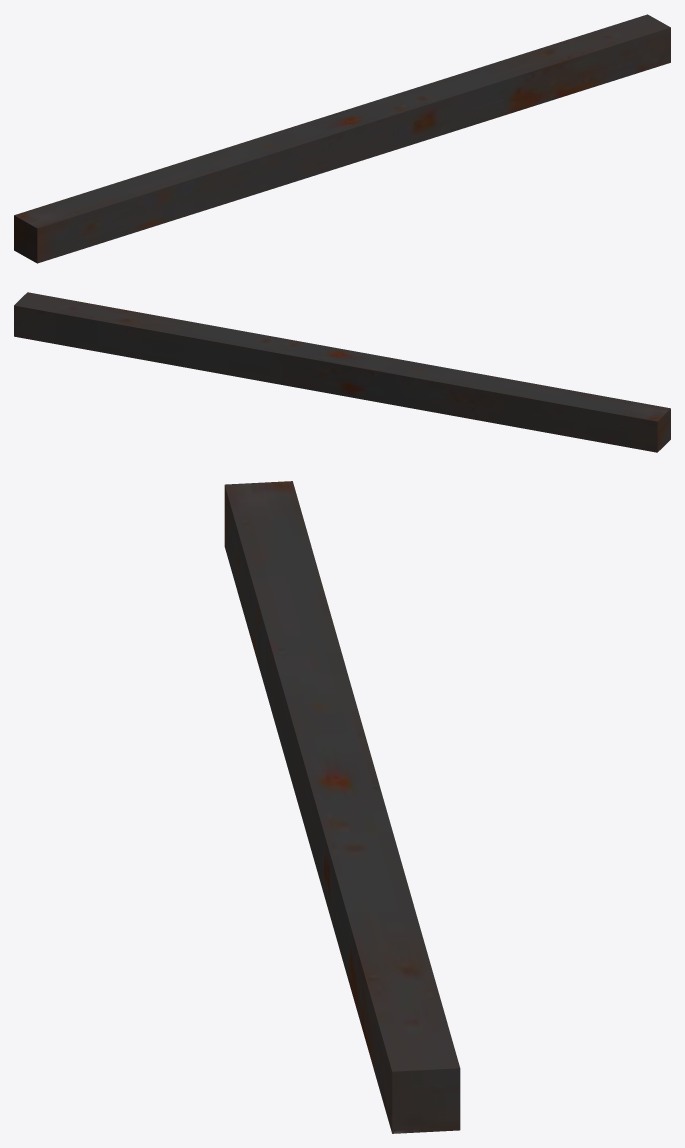
File: frame__rail_0.glb
The picture shows the model from 3 angles, top to bottom: view 1: azimuth 30°, elevation 25°; view 2: azimuth 150°, elevation 25°; view 3: azimuth 270°, elevation 25°; orthographic projection. The views are drawn at different scales.
Parts seen in each view (by area): view 1: geometry_0; view 2: geometry_0; view 3: geometry_0.
Part boxes in pixels (box(x1,y1,x2,y2)): geometry_0: box(14, 14, 670, 263); geometry_0: box(14, 292, 670, 452); geometry_0: box(224, 481, 460, 1133).
Size of the model in its own units: 1.02 by 0.05 by 0.1717.
Materials: 1 (1 with a texture image).
